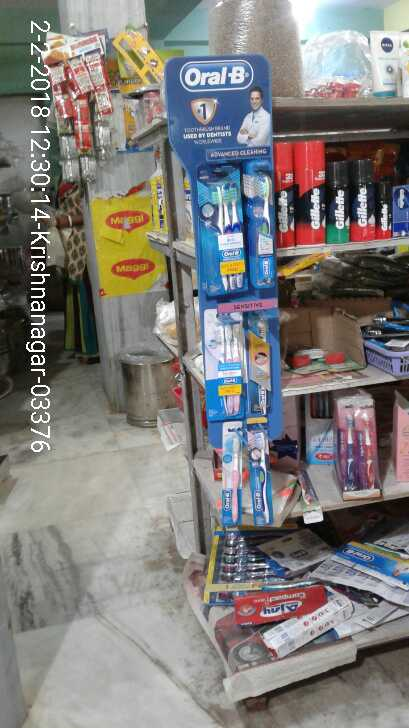beauty: (269, 140, 394, 245)
pharmacy: (202, 172, 246, 288), (211, 317, 246, 417), (246, 426, 276, 529), (251, 178, 279, 283), (220, 423, 246, 522)
